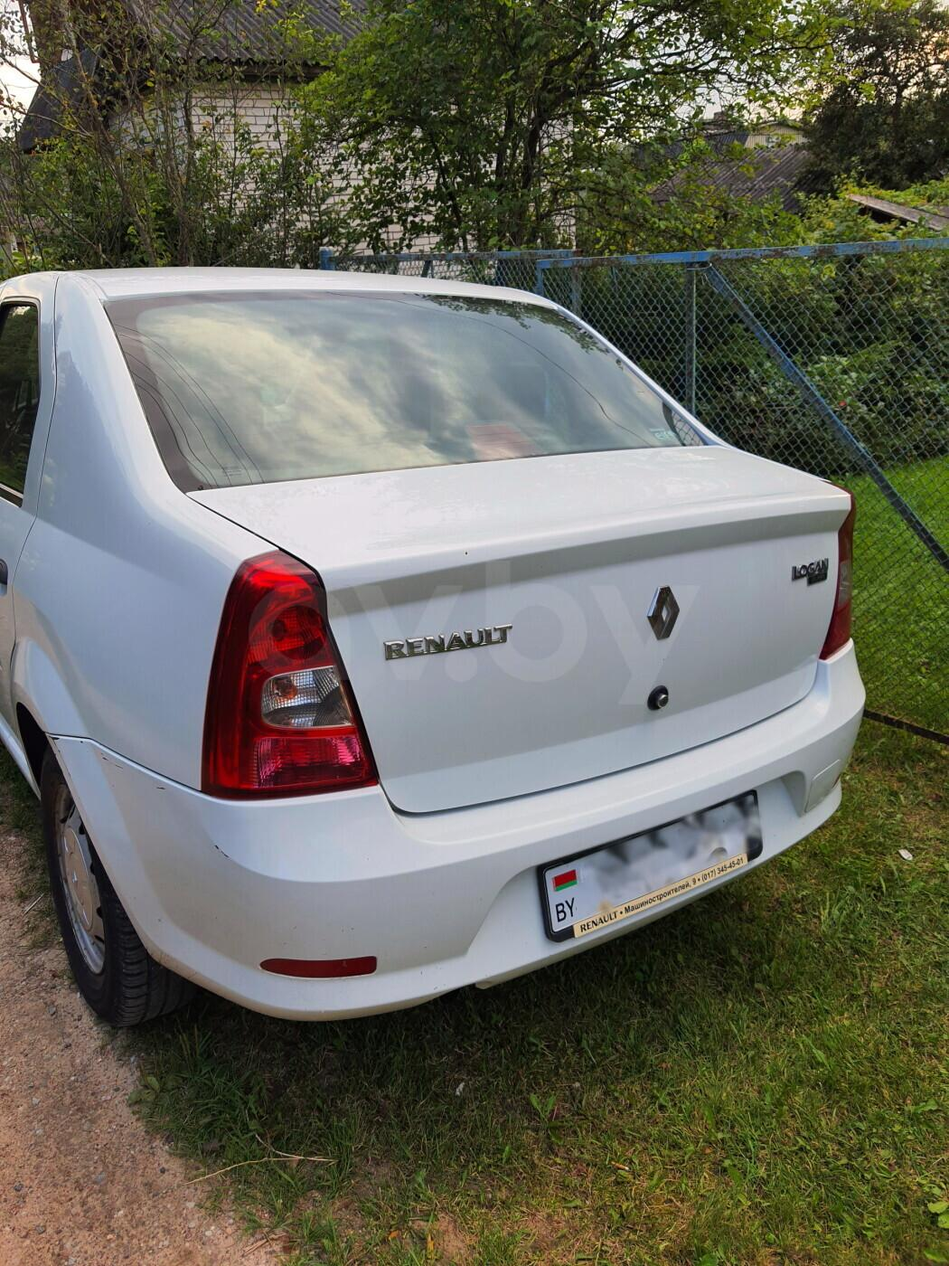Logan_2008-2015: (0, 253, 869, 1072)
